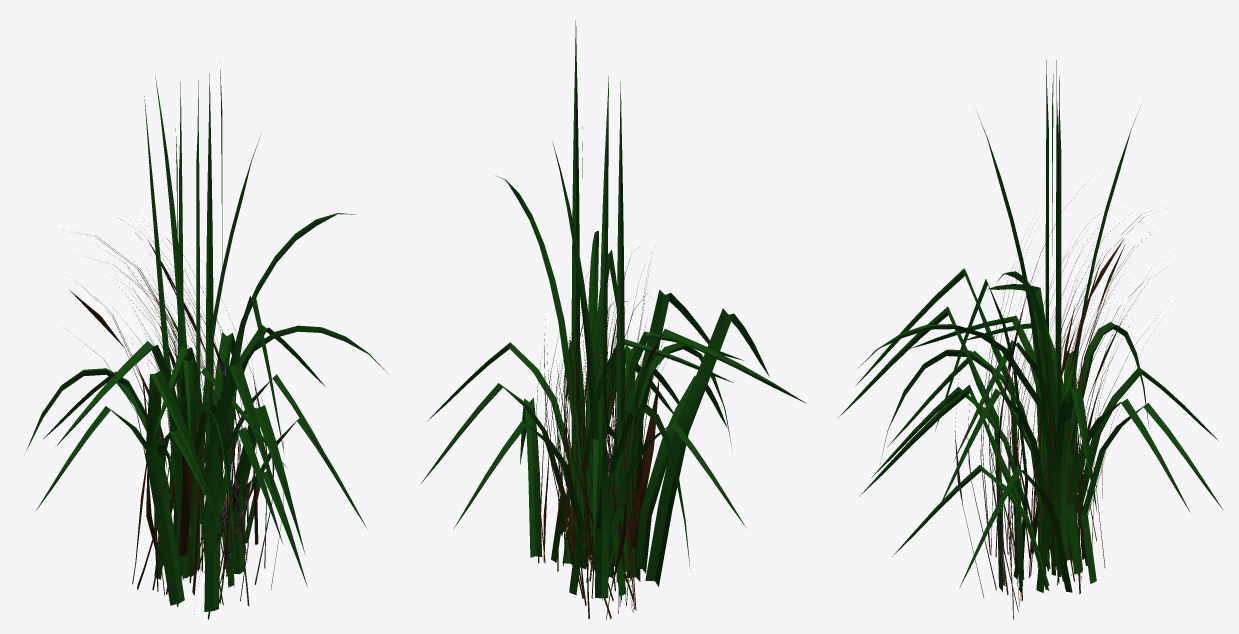
Rendered from plants1_edit_for_FBX.fbx.
The picture shows the model from 3 angles, left to right: view 1: azimuth 30°, elevation 25°; view 2: azimuth 150°, elevation 25°; view 3: azimuth 270°, elevation 25°; orthographic projection. The views are drawn at different scales.
Visible parts, largest first — view 1: plants01; view 2: plants01; view 3: plants01.
Part boxes in pixels (x1,y1,x2,y2): plants01: (26,62,387,619); plants01: (421,20,806,619); plants01: (838,60,1223,619).
Bounding box in the file's own units: 2676 × 4607 × 2662.
